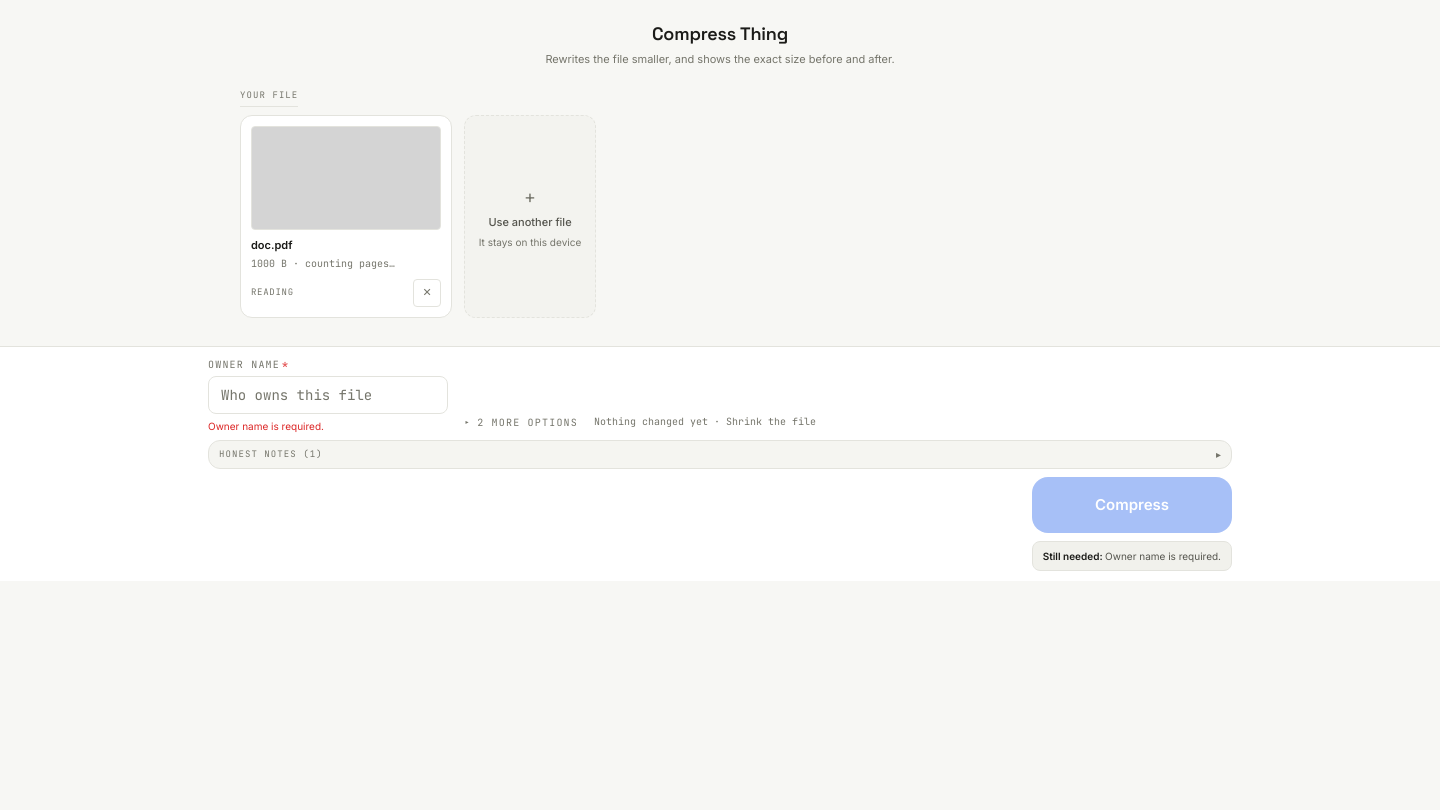
PdfToolPanel › turns the action on once a file and the required text are in place
The width and height of the screenshot is (1440, 810).
In the field labelled "Owner name": (328,394) 208,376 -> 448,414, type "ACME"
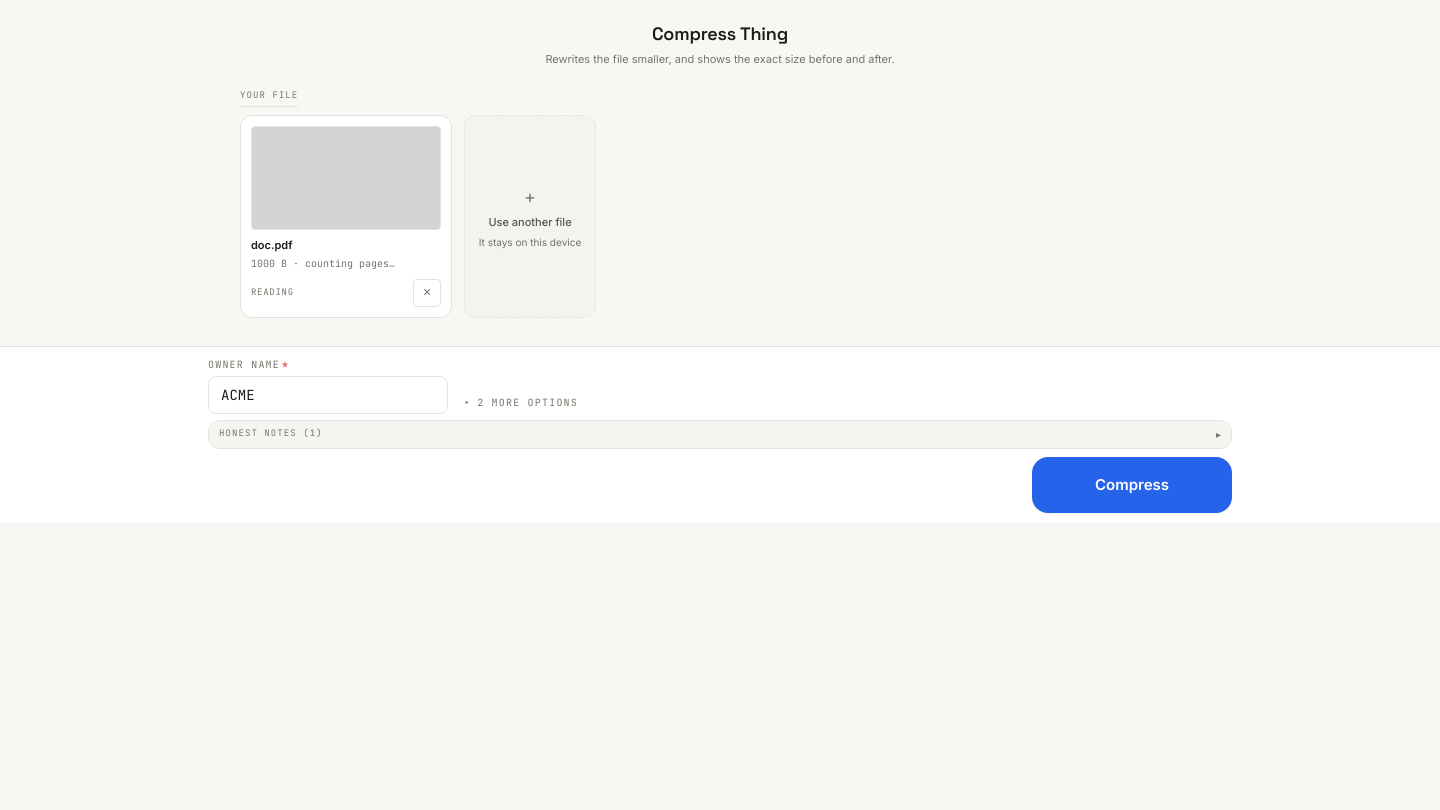
expect the button "Compress" is enabled: met, box 1032,456 -> 1232,512
